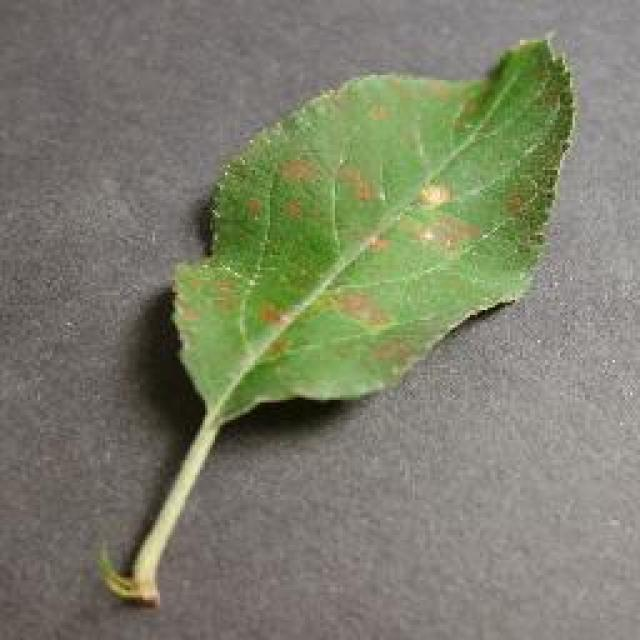apple rust disease: (95, 28, 577, 608)
